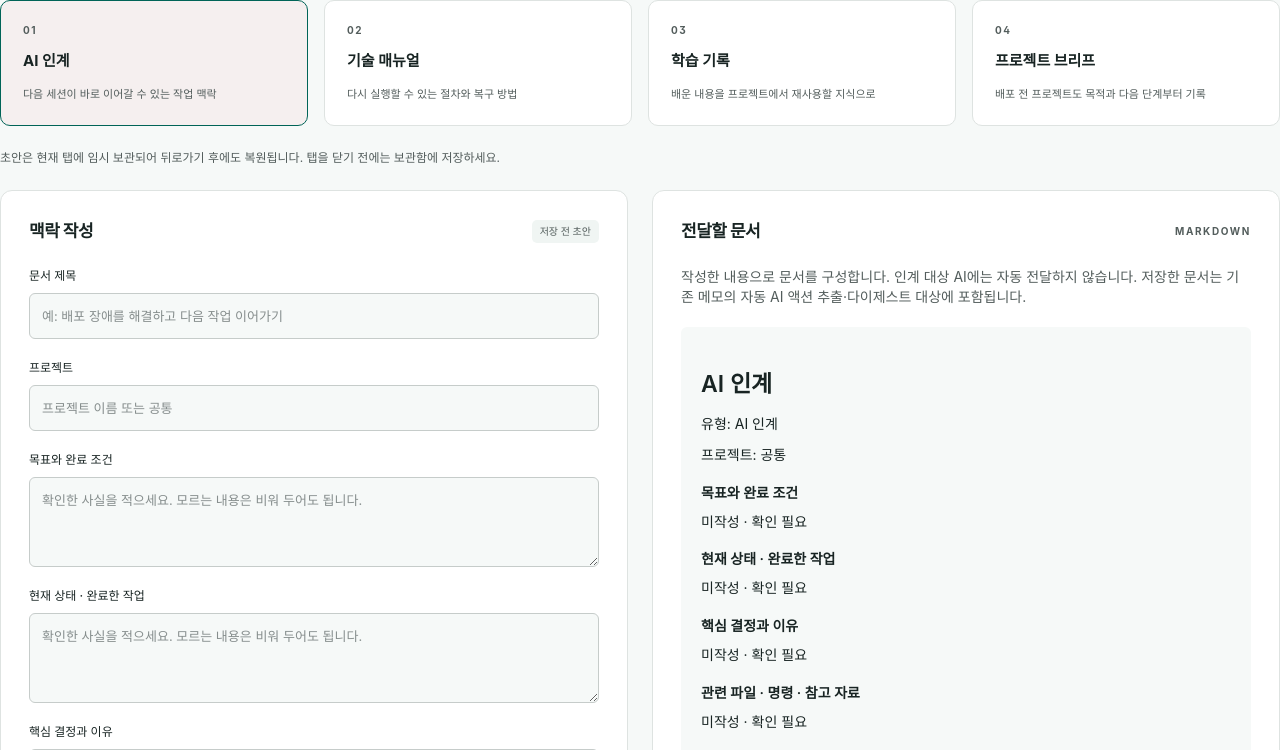
Test case: retains each template's draft when switching types
The width and height of the screenshot is (1280, 750).
Type "작업을 이어가기" into the text box labelled "목표와 완료 조건".
click(314, 522); type("작업을 이어가기")  # box left=29, top=477, right=599, bottom=567
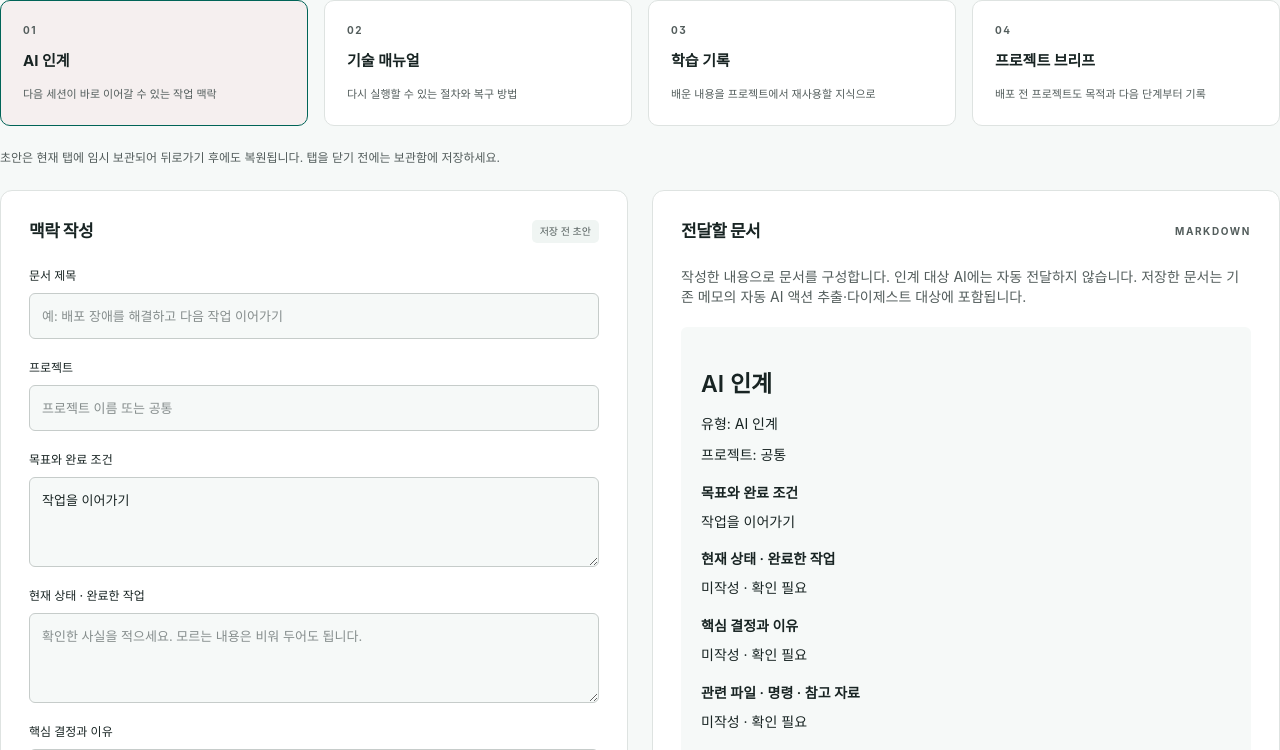
Click the button "02 기술 매뉴얼 다시 실행할 수 있는 절차와 복구 방법".
click(383, 60)  # box left=324, top=0, right=632, bottom=126
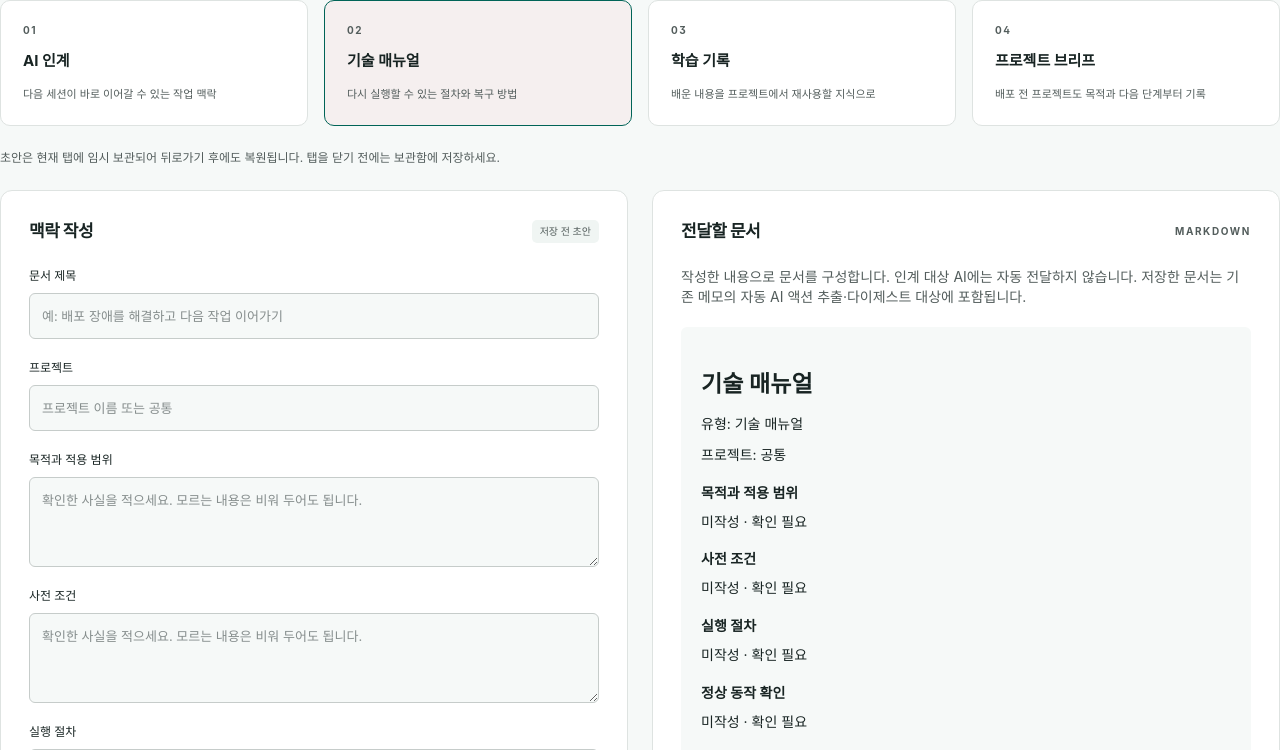
Type "배포 방법" into the text box labelled "목적과 적용 범위".
click(314, 522); type("배포 방법")  # box left=29, top=477, right=599, bottom=567
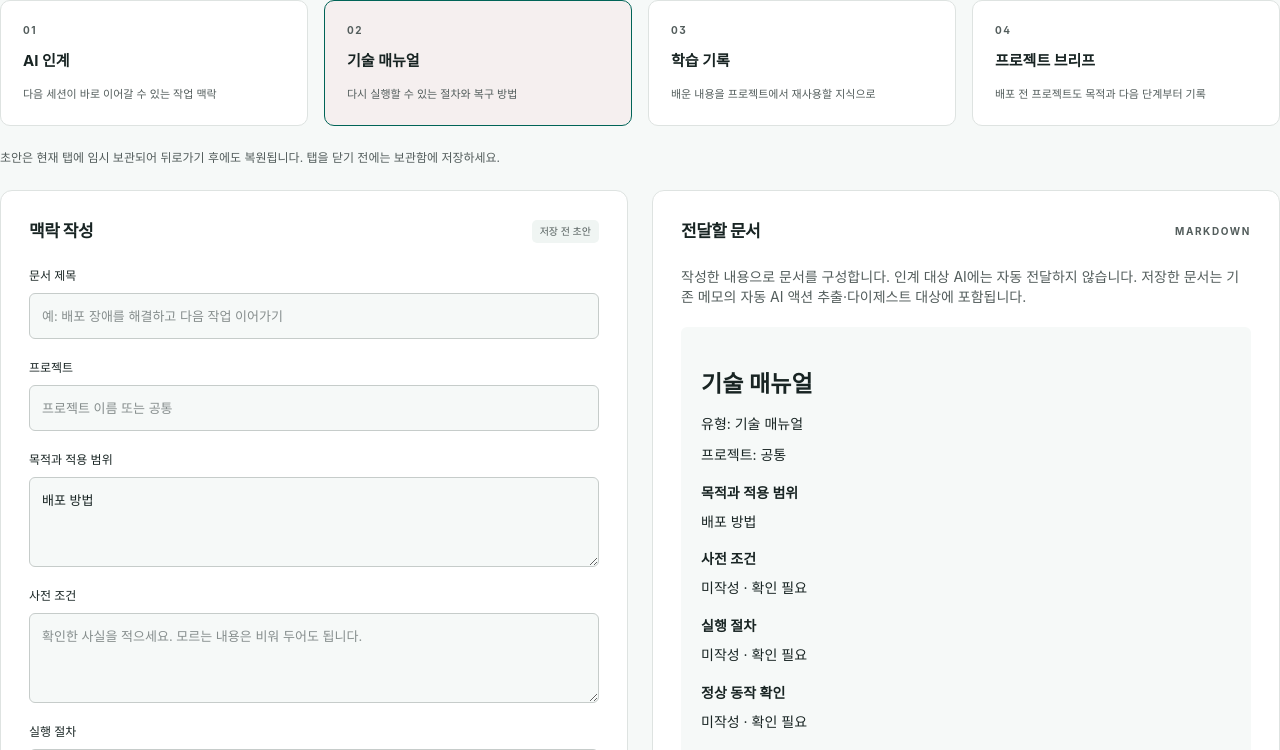
Click the button "01 AI 인계 다음 세션이 바로 이어갈 수 있는 작업 맥락".
click(46, 60)  # box left=0, top=0, right=308, bottom=126
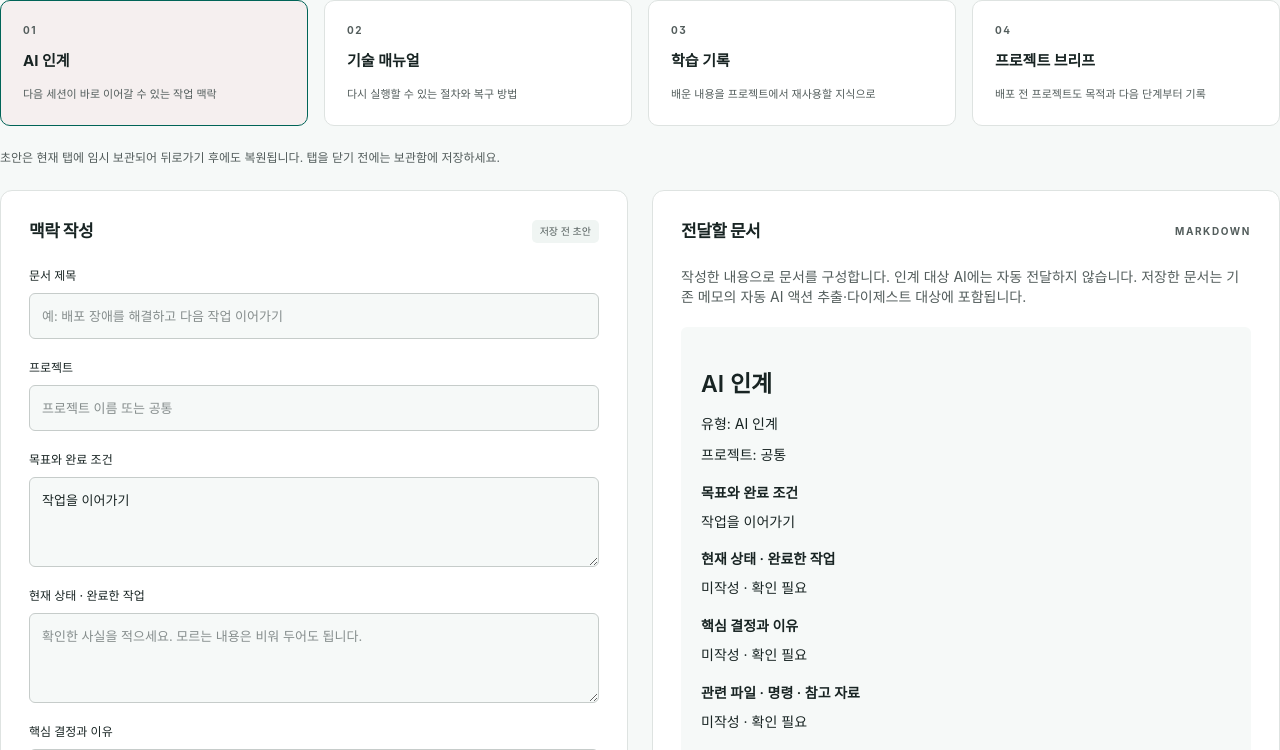
Result: the text box labelled "목표와 완료 조건" holds "작업을 이어가기" at left=29, top=477, right=599, bottom=567
